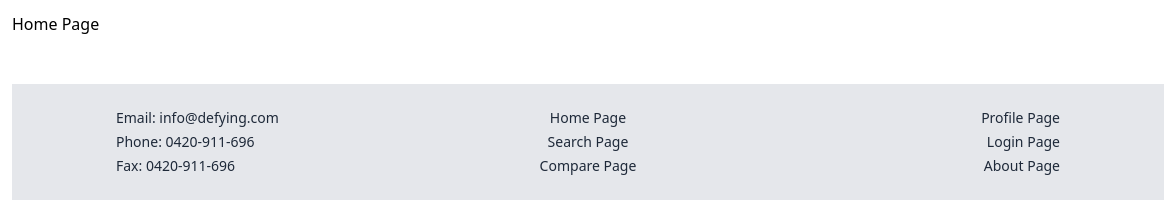
Test: Footer Component - Integration Tests › navigates to Profile Page when 'Profile Page' link is clicked
Step 1. Click the link "Profile Page" → (1021, 118), box 981,108 -> 1060,128
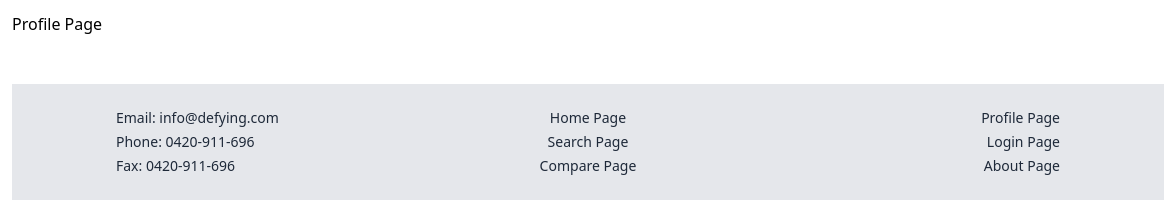
Now the heading "Profile Page" is shown, box 12,13 -> 102,35
